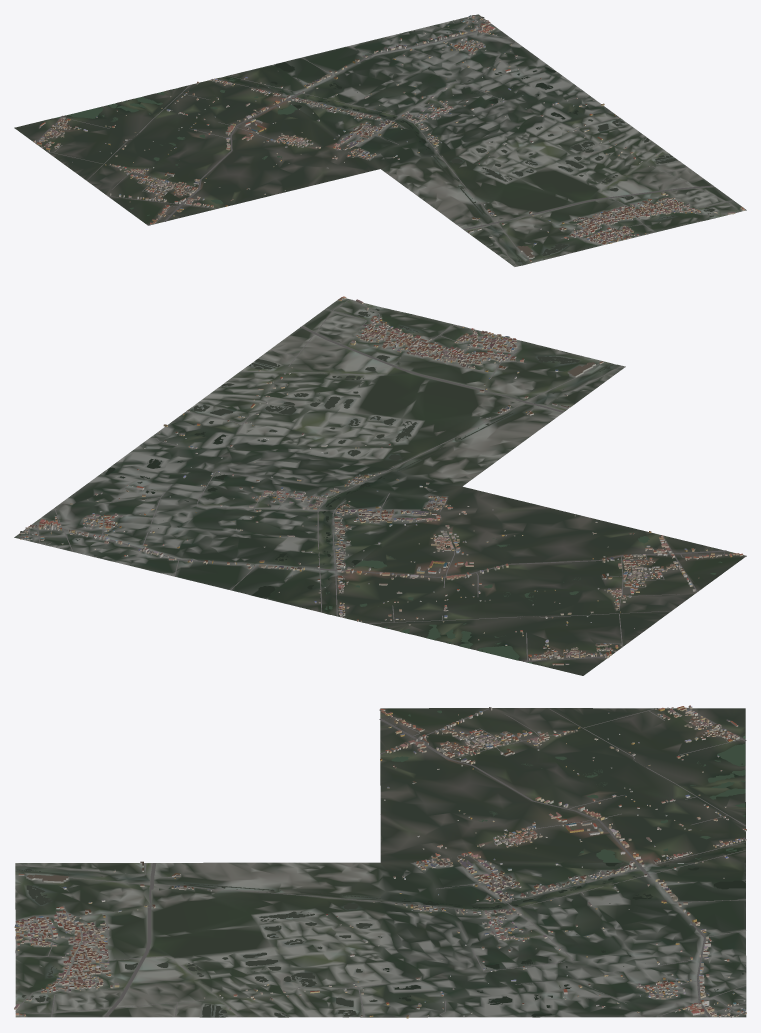
3 views of the same model, one above another, from view 1: azimuth 30°, elevation 25°; view 2: azimuth 150°, elevation 25°; view 3: azimuth 270°, elevation 25° (orthographic). The views are drawn at different scales.
Visible parts, largest first — view 1: ground, buildings, roads, water; view 2: ground, buildings, roads, water; view 3: ground, buildings, water, roads.
Part boxes in pixels (left/top/right/bottom): ground: left=14, top=14, right=746, bottom=266; buildings: left=33, top=15, right=745, bottom=261; roads: left=35, top=17, right=739, bottom=266; water: left=56, top=30, right=715, bottom=264; ground: left=14, top=297, right=746, bottom=675; buildings: left=19, top=296, right=743, bottom=665; roads: left=23, top=299, right=728, bottom=661; water: left=75, top=308, right=722, bottom=663; ground: left=15, top=708, right=746, bottom=1017; buildings: left=14, top=705, right=746, bottom=1018; water: left=17, top=710, right=745, bottom=1017; roads: left=15, top=708, right=746, bottom=1017.
Size of the model in its own units: 2820 by 26.51 by 2813.
